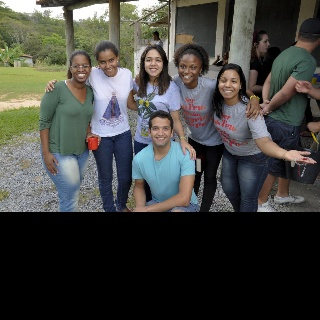without_mask: (178, 54, 201, 84), (217, 70, 240, 99), (150, 116, 171, 147), (71, 56, 90, 82), (98, 50, 117, 76), (144, 49, 162, 76)
